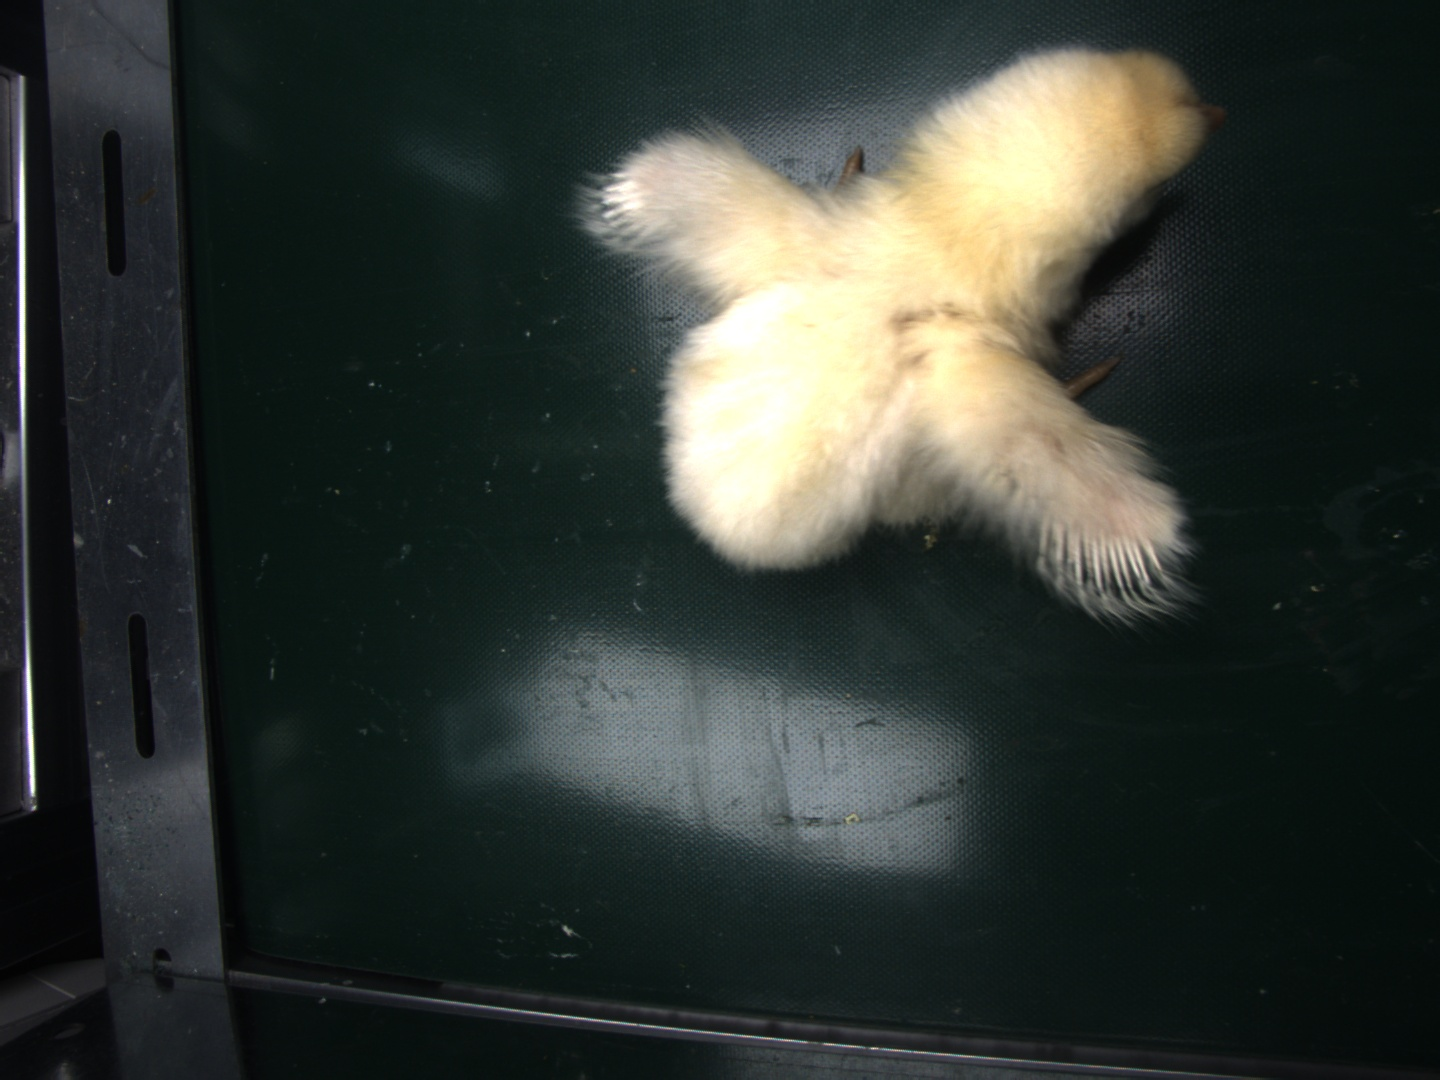male: (1042, 518, 1164, 605)
